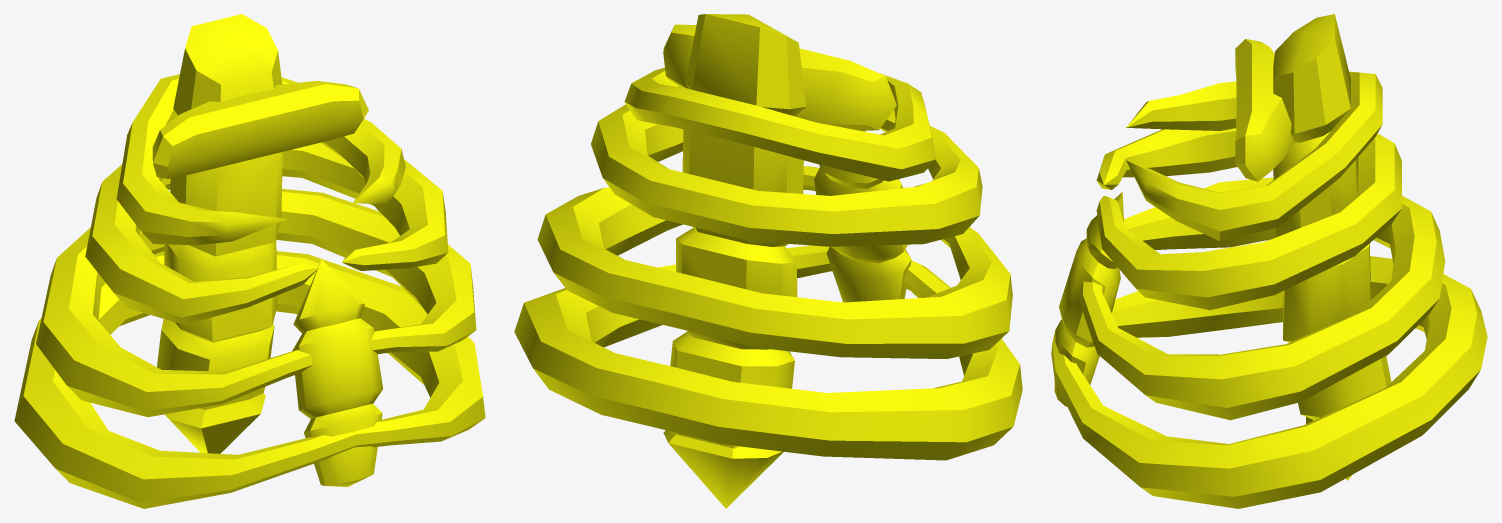
File: kaykit-ribcage.glb
3 renders of one model, left to right at view 1: azimuth 30°, elevation 25°; view 2: azimuth 150°, elevation 25°; view 3: azimuth 270°, elevation 25°, orthographic. The views are drawn at different scales.
Parts seen in each view (by area): view 1: ribcage; view 2: ribcage; view 3: ribcage.
Boxes of the visible parts, x1=… form: ribcage: x1=14, y1=14, x2=485, y2=508; ribcage: x1=514, y1=14, x2=1022, y2=508; ribcage: x1=1051, y1=14, x2=1487, y2=508.
Size of the model in its own units: 0.8457 by 0.8582 by 0.7469.
